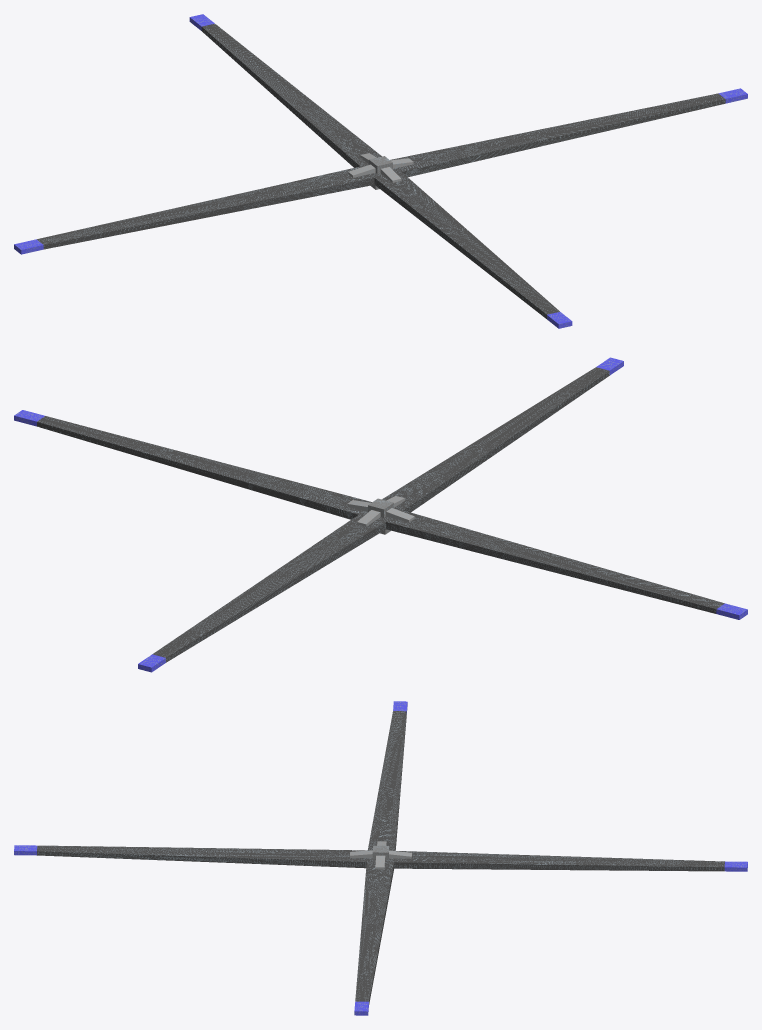
File: heliblades.dae
3 renders of one model, top to bottom at view 1: azimuth 30°, elevation 25°; view 2: azimuth 150°, elevation 25°; view 3: azimuth 270°, elevation 25°, orthographic. The views are drawn at different scales.
Visible parts, largest first — view 1: SketchUp; view 2: SketchUp; view 3: SketchUp.
Part boxes in pixels (box(x1,y1,x2,y2)): SketchUp: box(37, 23, 725, 318); SketchUp: box(37, 367, 724, 662); SketchUp: box(37, 711, 724, 1004).
Bounding box in the file's own units: 63.96 × 63.96 × 1.88.
